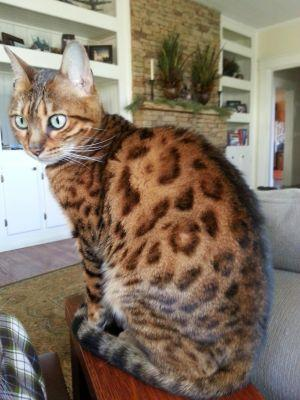bengal: (1, 31, 114, 169)
